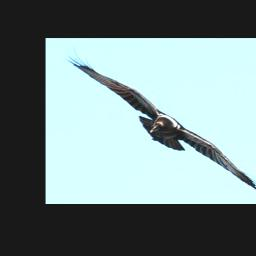Crow: (61, 43, 256, 198)
